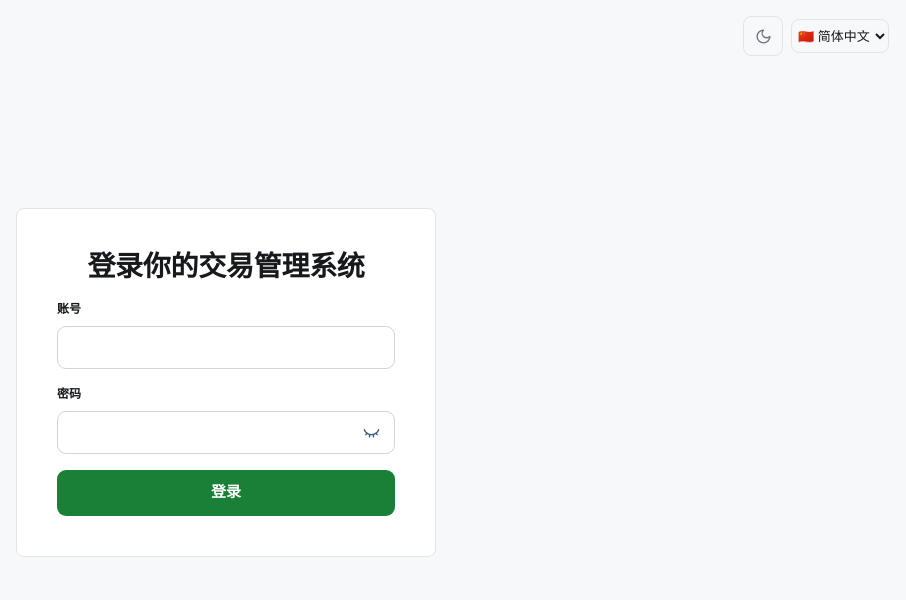
it: LoginPage › shows a generic login error and the administrator contact
The image size is (906, 600).
In the field labelled "账号": (226, 347) x1=57 y1=326 x2=395 y2=368, type "xinyu"
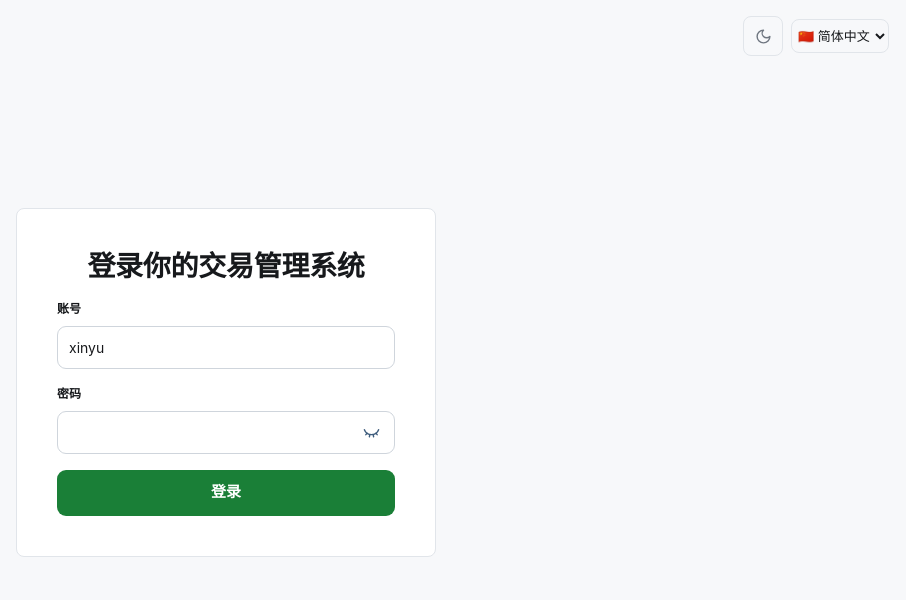
In the password field labelled "密码": (226, 432) x1=57 y1=410 x2=395 y2=454, type "secret"
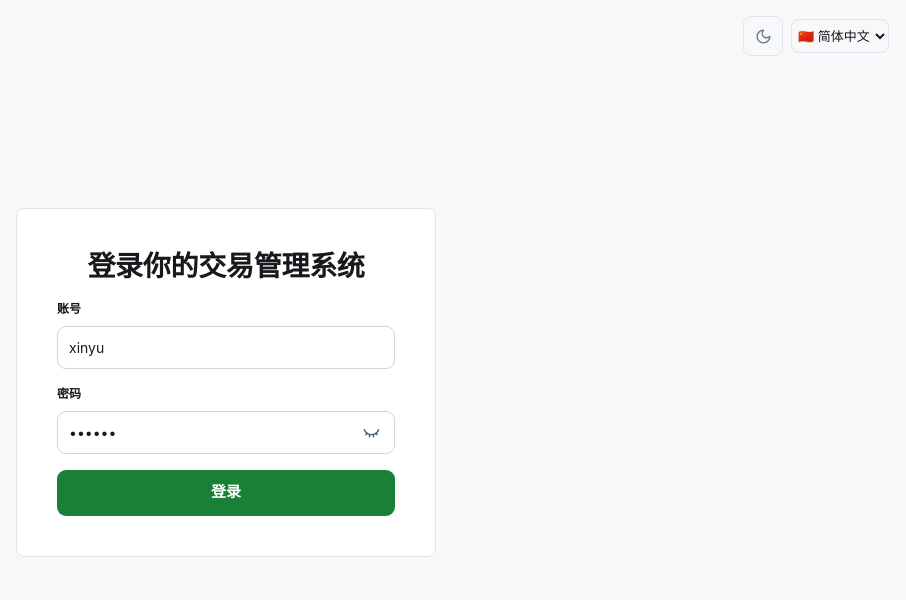
Submit the form "登录", box x1=16 y1=208 x2=436 y2=556
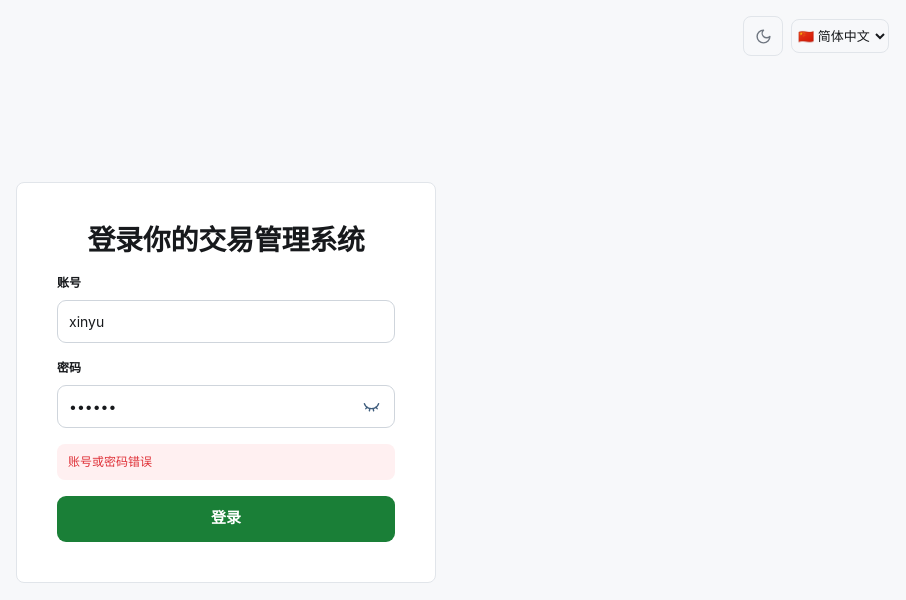
Result: the message reads "账号或密码错误" at x1=68 y1=454 x2=152 y2=468
